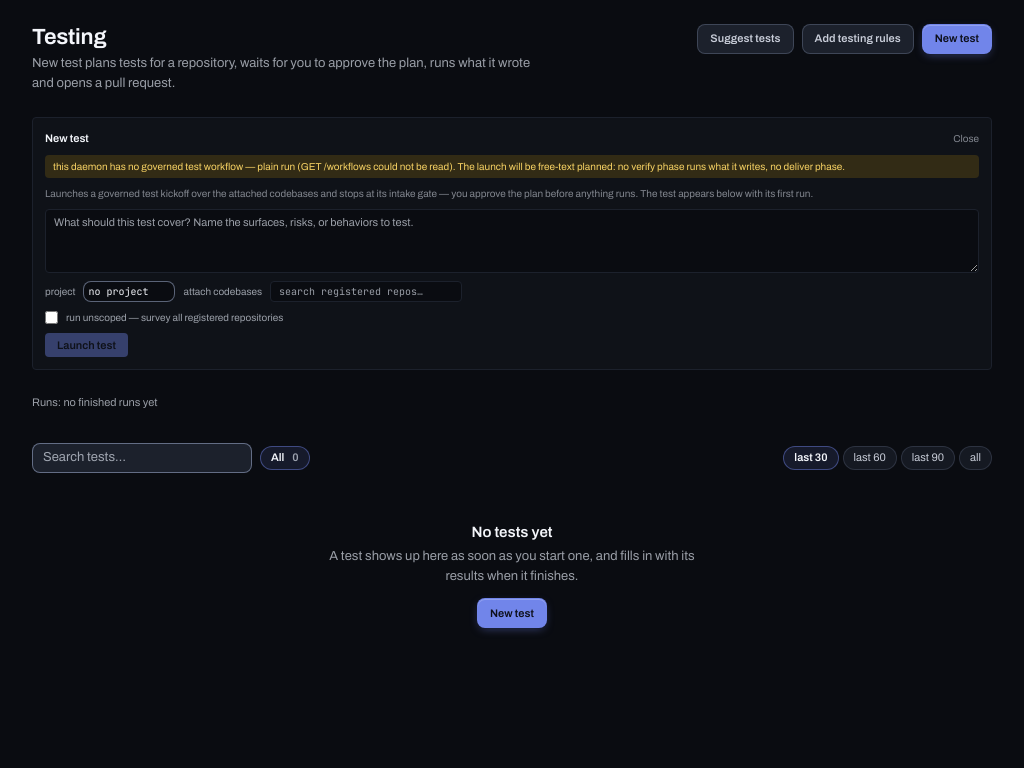
the ?new= arrival intent (#203) — a create affordance lands with its panel OPEN › the intent-opened panel is the same one the verb toggles — clicking "New test" again closes it
Check: the element with test id "testing-launch-panel" is shown, box [32,117,992,370]
Click the button with test id "testing-campaign-open".
click(957, 39)  # box [922,24,992,54]
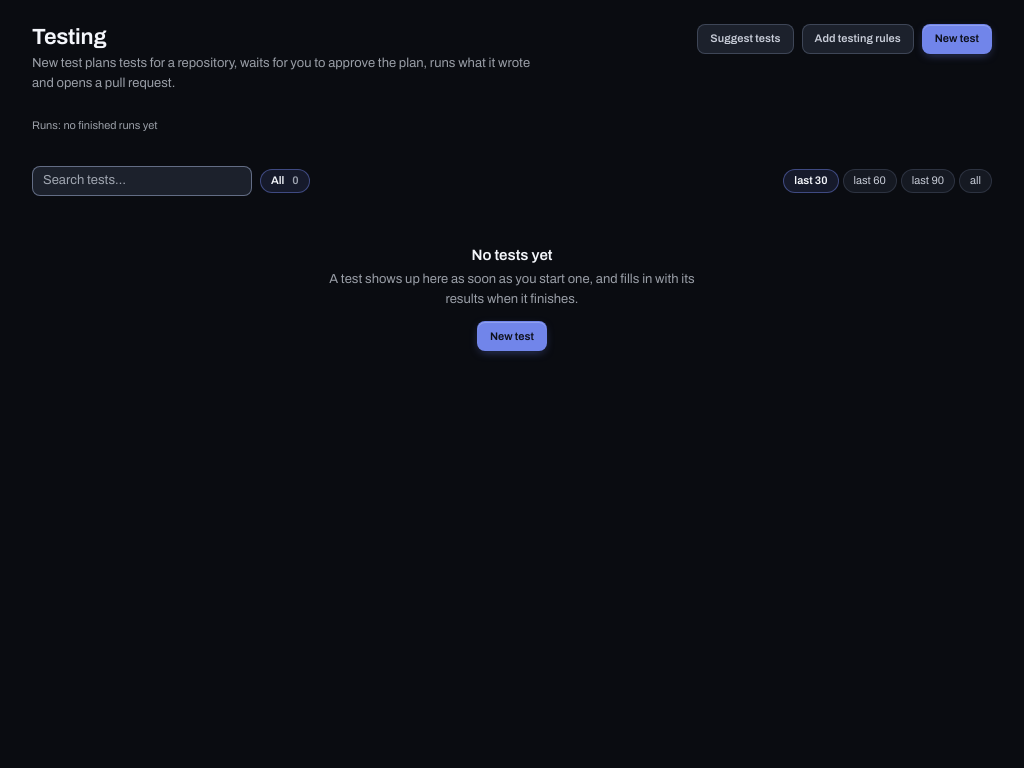
Check: the element with test id "testing-launch-panel" is gone
